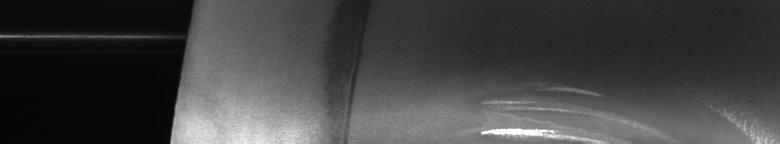ke: (464, 80, 769, 136)
